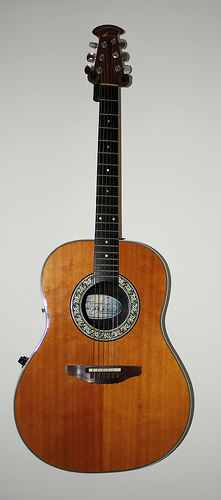guitar: (12, 24, 195, 477)
